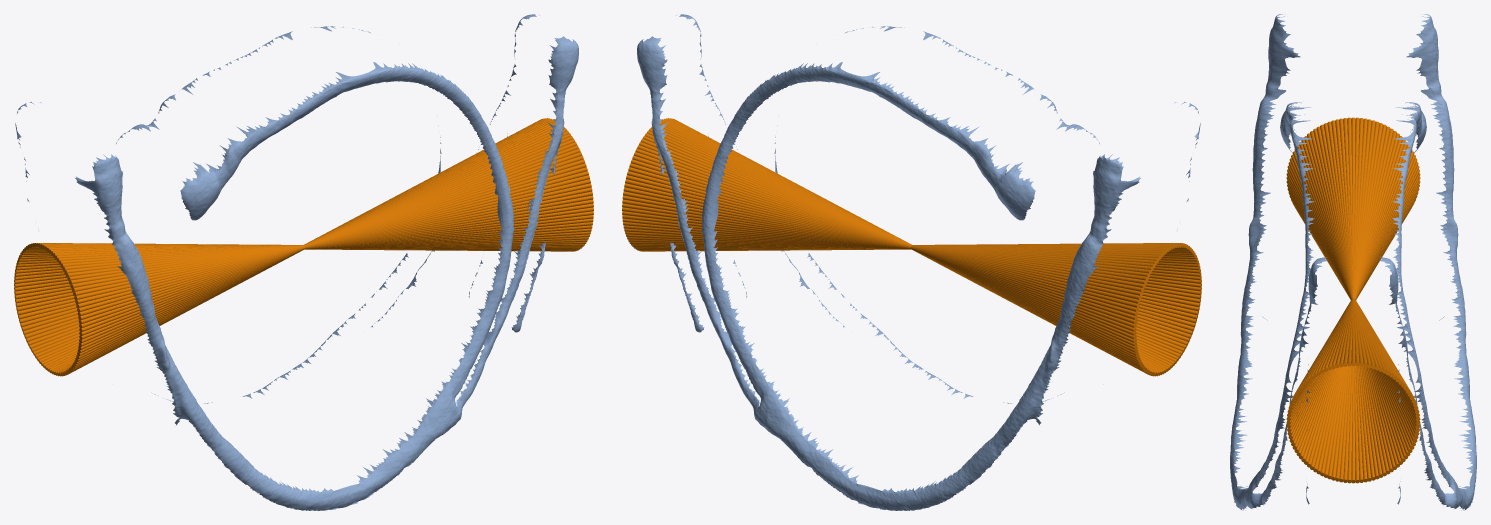
The model's file is A60023186_6150-37-520-4025_DigitalTwin.glb.
3 renders of one model, left to right at view 1: azimuth 30°, elevation 25°; view 2: azimuth 150°, elevation 25°; view 3: azimuth 270°, elevation 25°, orthographic. The views are drawn at different scales.
Visible parts, largest first — view 1: world; view 2: world; view 3: world.
Part boxes in pixels (left/top/right/bottom): world: left=14, top=14, right=593, bottom=510; world: left=622, top=14, right=1201, bottom=510; world: left=1230, top=14, right=1476, bottom=510.
Size of the model in its own units: 525 by 391 by 223.
